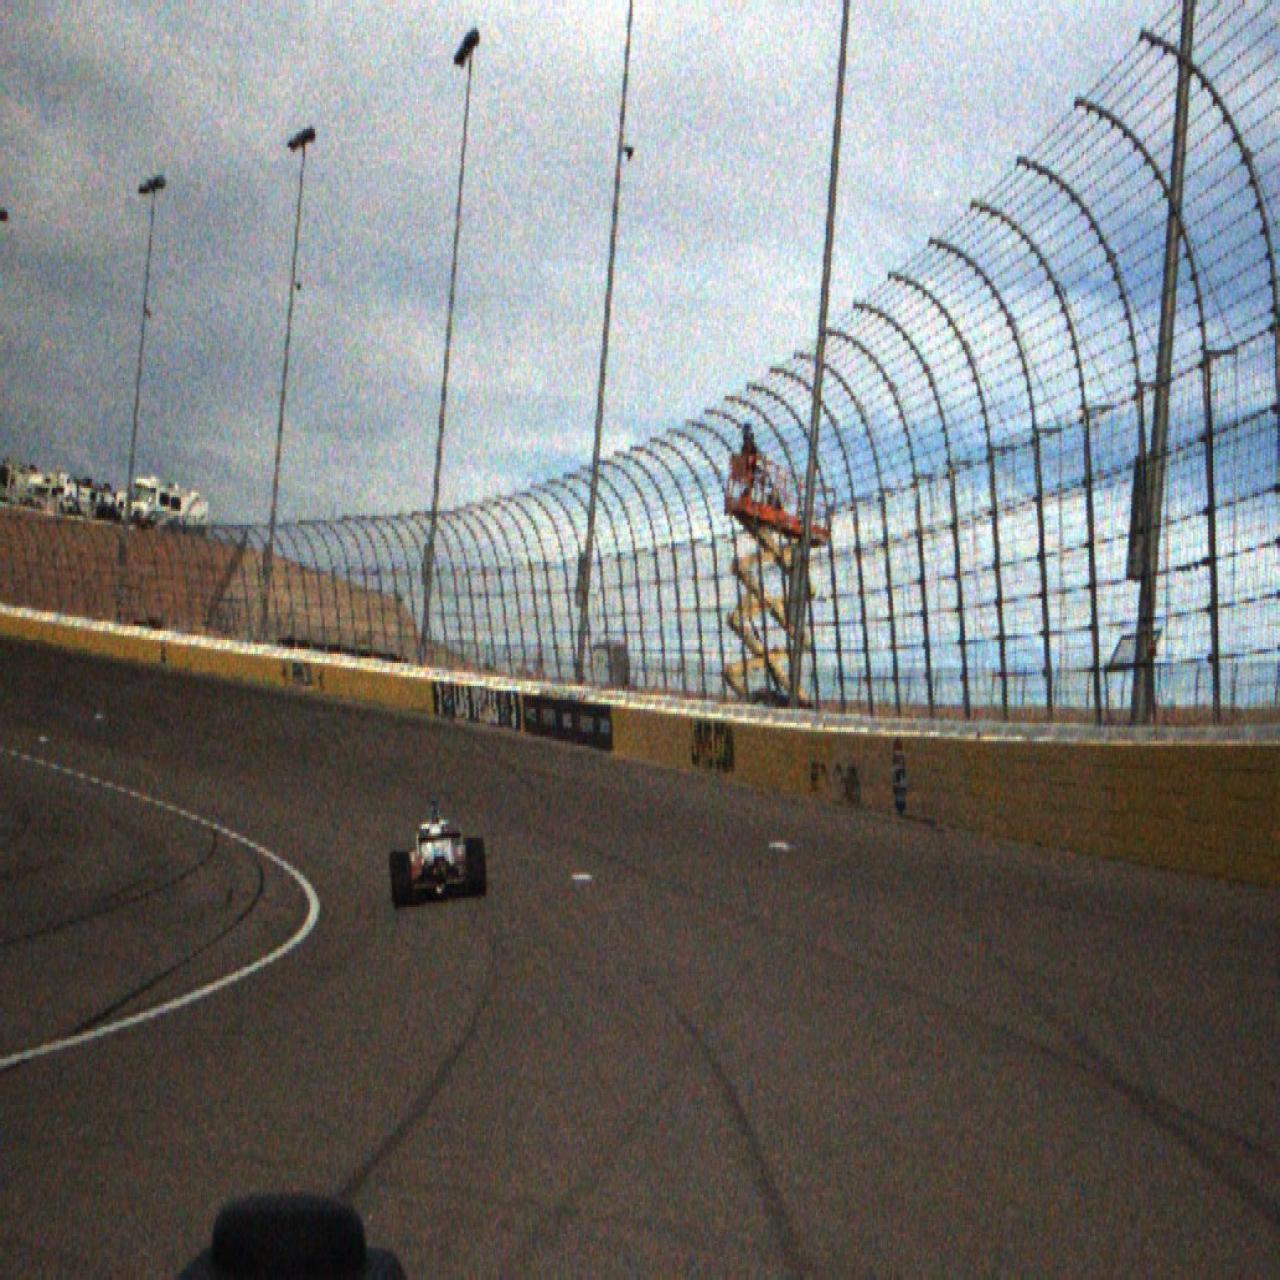AV: (390, 795, 487, 910)
Wheel: (465, 838, 487, 898), (394, 852, 412, 909)
